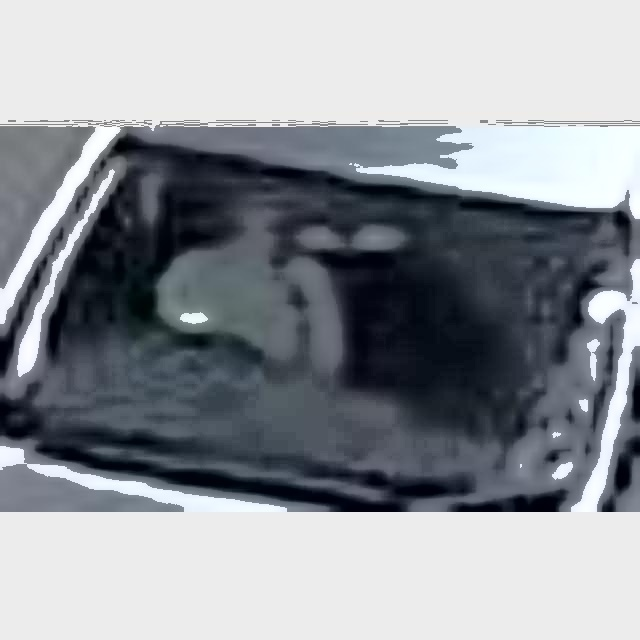tidak-pakai: (156, 176, 361, 390)
